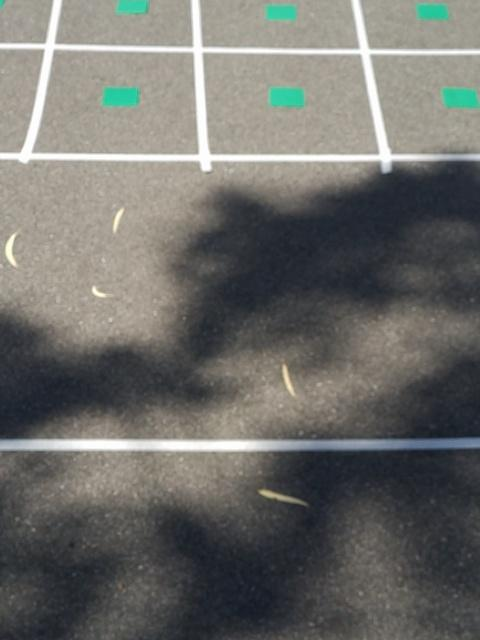weed: (101, 83, 138, 108), (440, 88, 480, 111), (267, 87, 303, 109), (264, 2, 298, 23), (415, 1, 449, 20), (113, 0, 150, 14)
